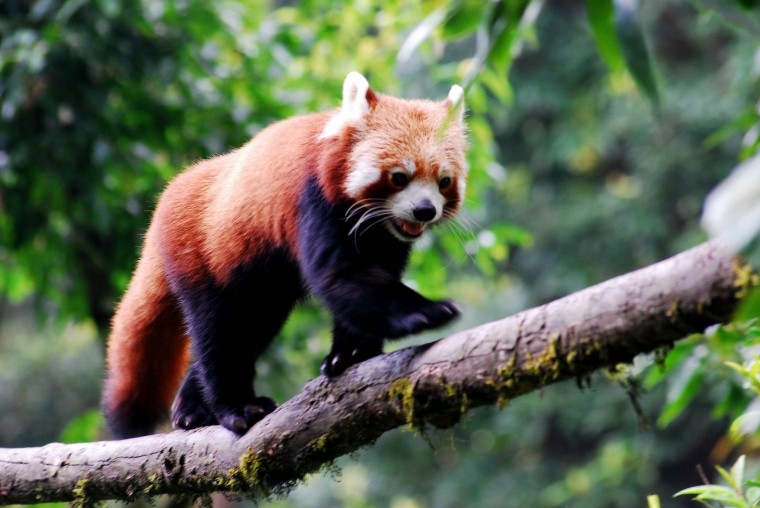red_panda: (107, 77, 485, 409)
